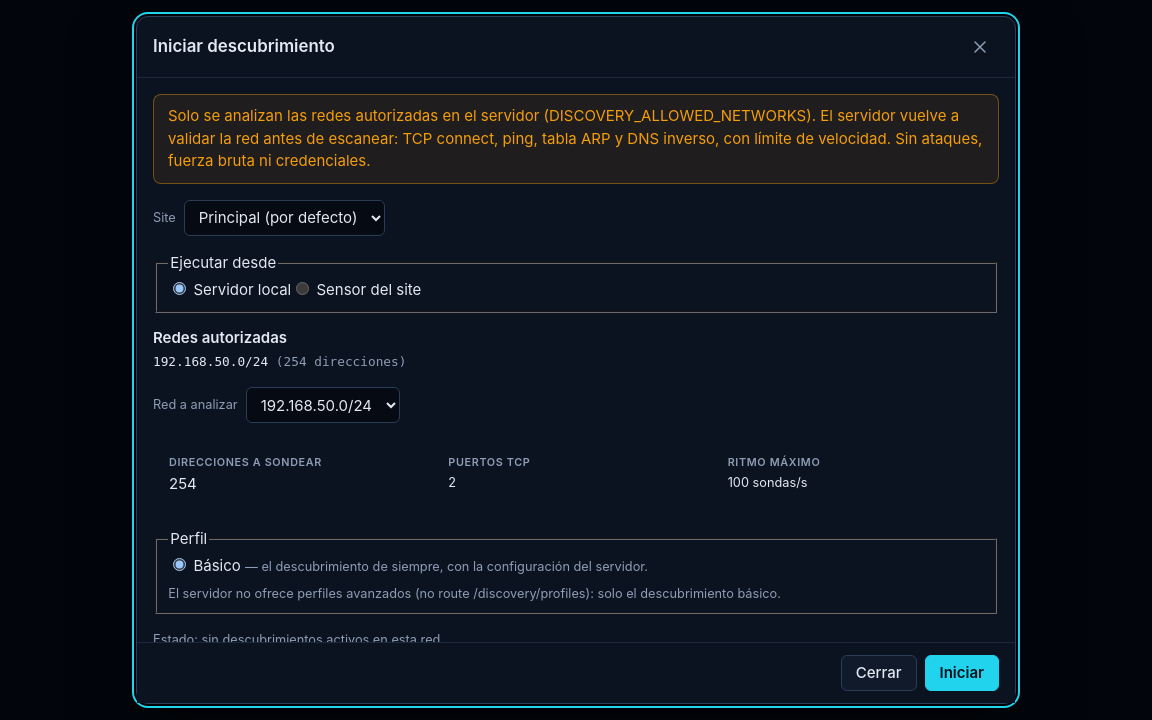
Scenario: DiscoveryModal con sites y sensores › sin sensores utilizables en el site no deja iniciar
Select "Sucursal Norte" in the dropdown labelled "Site" at (284, 218), box [184, 200, 385, 236]
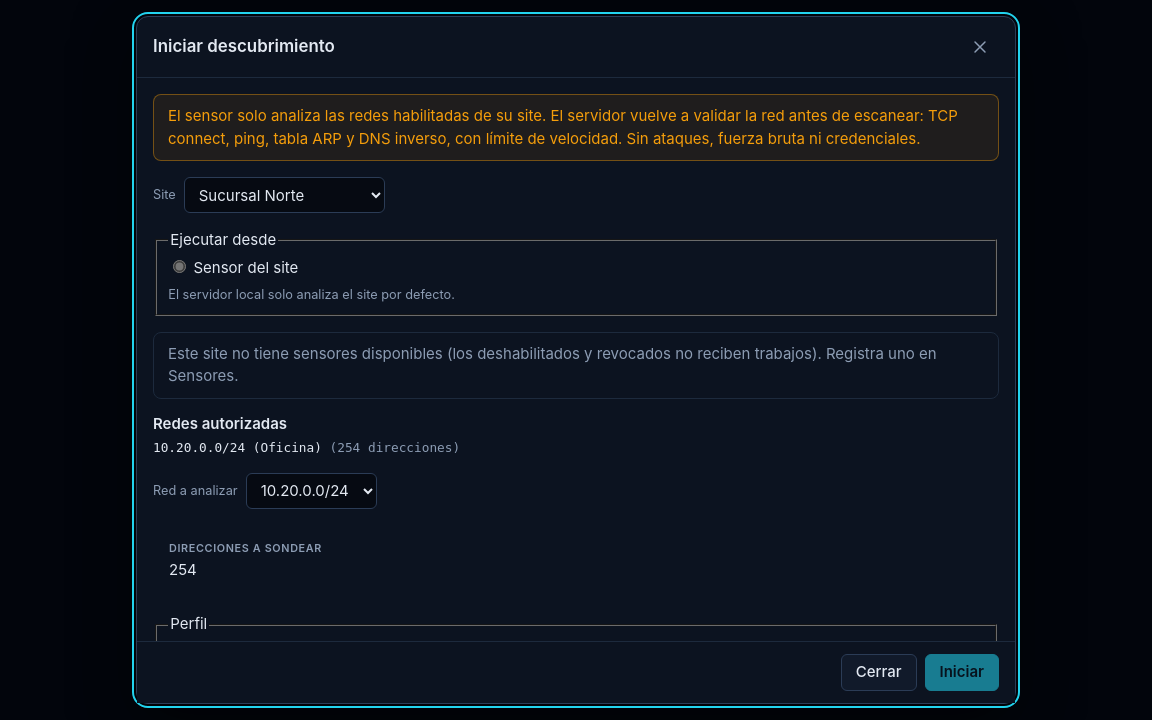
Now the text "no tiene sensores disponibles" is shown, box [168, 344, 937, 385]
Now the button "Iniciar" is disabled, box [924, 654, 999, 691]
